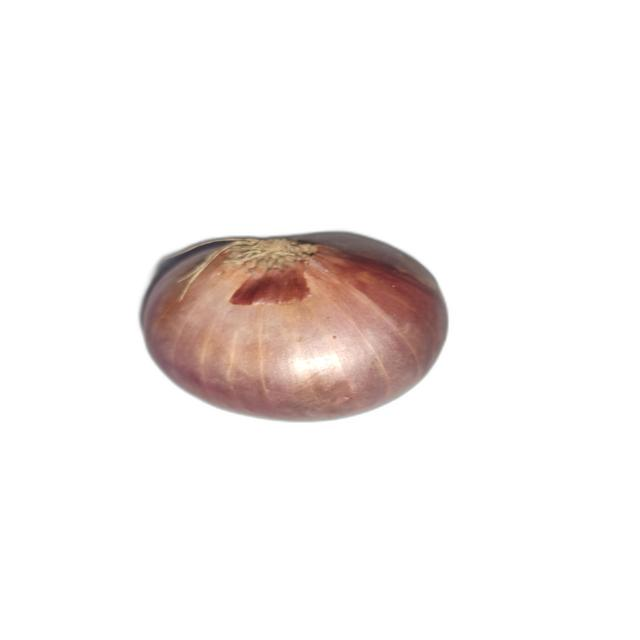onion: (136, 231, 452, 422)
